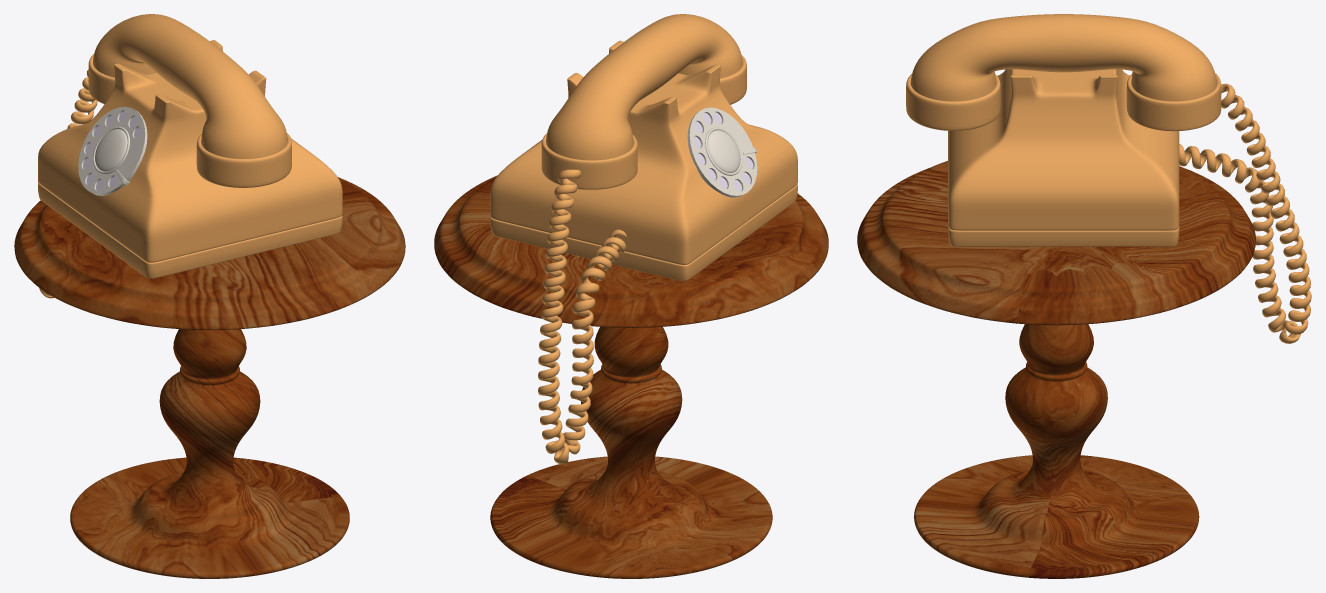
The model's file is telephone_on_a_table.glb.
The picture shows the model from 3 angles, left to right: view 1: azimuth 30°, elevation 25°; view 2: azimuth 150°, elevation 25°; view 3: azimuth 270°, elevation 25°; orthographic projection.
Parts seen in each view (by area): view 1: Circle_19, Plane.001_18, Circle.011_7, Circle.009_8, Sphere.001_10, Circle.001_6, Circle.010_9; view 2: Circle_19, Plane.001_18, Circle.011_7, Circle.001_6, Circle.009_8, Sphere.001_10, Circle.010_9; view 3: Circle_19, Plane.001_18, Circle.011_7, Circle.001_6.
Boxes of the visible parts, x1,y1,x2,y2 form: Circle_19: (14,177,405,578); Plane.001_18: (38,40,342,278); Circle.011_7: (88,14,291,187); Circle.009_8: (78,106,147,195); Sphere.001_10: (95,129,127,171); Circle.001_6: (39,69,97,298); Circle.010_9: (83,110,142,190); Circle_19: (434,175,828,578); Plane.001_18: (490,40,797,281); Circle.011_7: (541,14,746,189); Circle.001_6: (538,169,626,464); Circle.009_8: (687,107,757,197); Sphere.001_10: (707,130,740,172); Circle.010_9: (692,112,753,191); Circle_19: (857,161,1255,578); Plane.001_18: (948,69,1179,246); Circle.011_7: (906,14,1221,131); Circle.001_6: (1179,83,1311,343).
Bounding box in the file's own units: 3.63 × 4.97 × 4.14.
5 materials, 1 textured.
